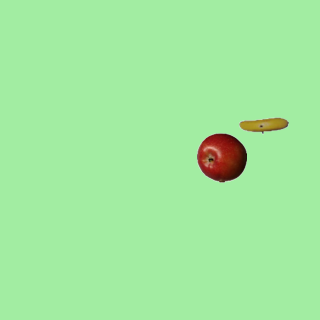Apple Braeburn: (196, 132, 246, 182)
Banana: (238, 100, 288, 150)
